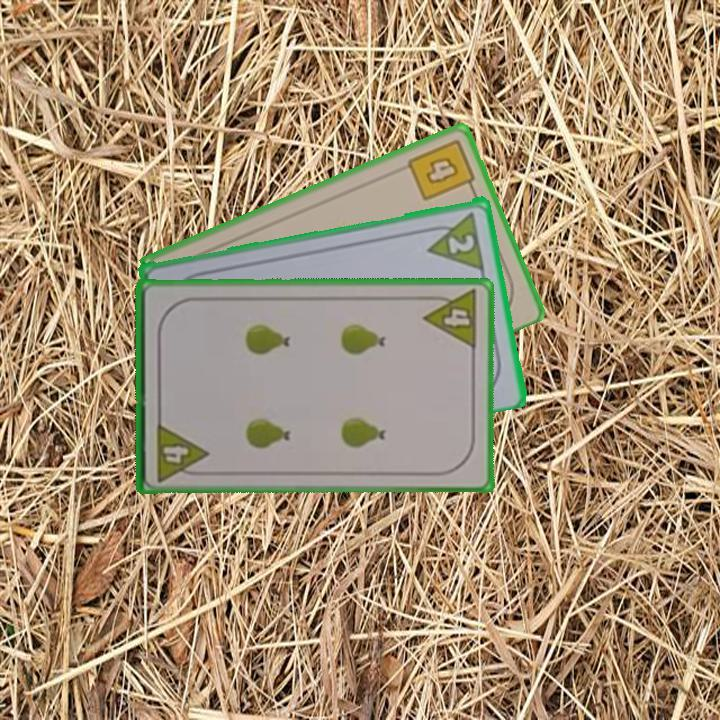2p: (420, 207, 488, 272)
4b: (404, 134, 479, 204)
4p: (421, 287, 481, 352), (153, 419, 210, 484)
